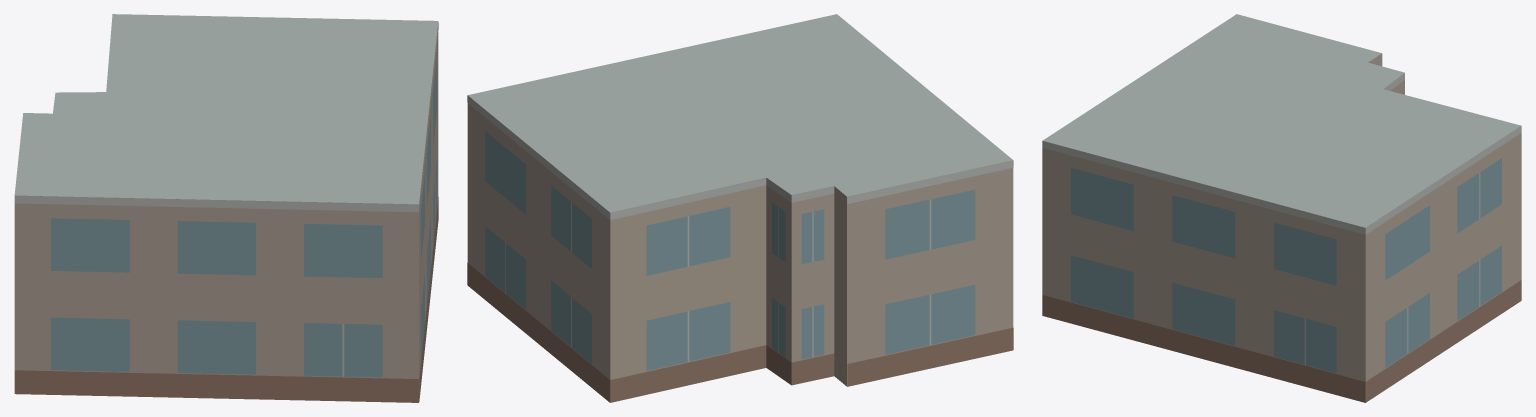
The model's file is survey-upis-32717875.glb.
3 renders of one model, left to right at view 1: azimuth 30°, elevation 25°; view 2: azimuth 150°, elevation 25°; view 3: azimuth 270°, elevation 25°, orthographic. The views are drawn at different scales.
Parts seen in each view (by area): view 1: survey-upis-32717875.tmp; view 2: survey-upis-32717875.tmp; view 3: survey-upis-32717875.tmp.
Boxes of the visible parts, left/top/right/bottom form: survey-upis-32717875.tmp: left=14, top=14, right=438, bottom=402; survey-upis-32717875.tmp: left=467, top=14, right=1013, bottom=402; survey-upis-32717875.tmp: left=1042, top=14, right=1521, bottom=402.
Size of the model in its own units: 15.99 by 6.1 by 15.14.
